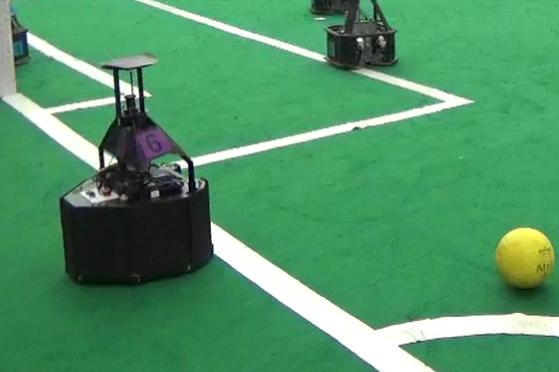robot: (55, 54, 216, 287)
